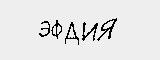Е: (22, 20, 41, 39), (108, 20, 122, 42)
Н: (69, 18, 106, 42)
С: (124, 20, 139, 41)
Э: (39, 19, 54, 36)
Ә: (53, 19, 69, 39)
